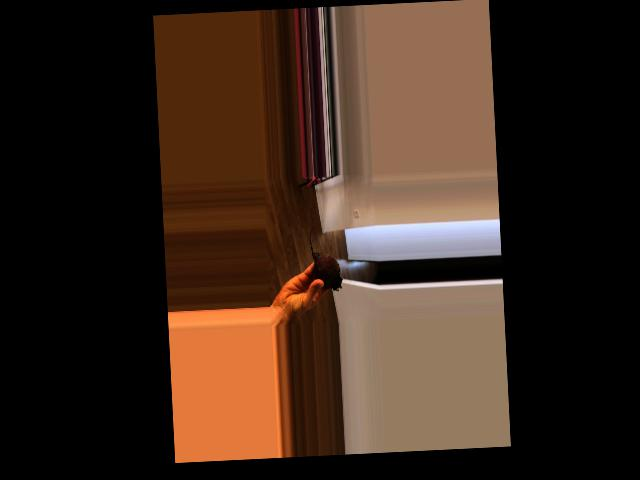beet: (309, 225, 342, 291)
